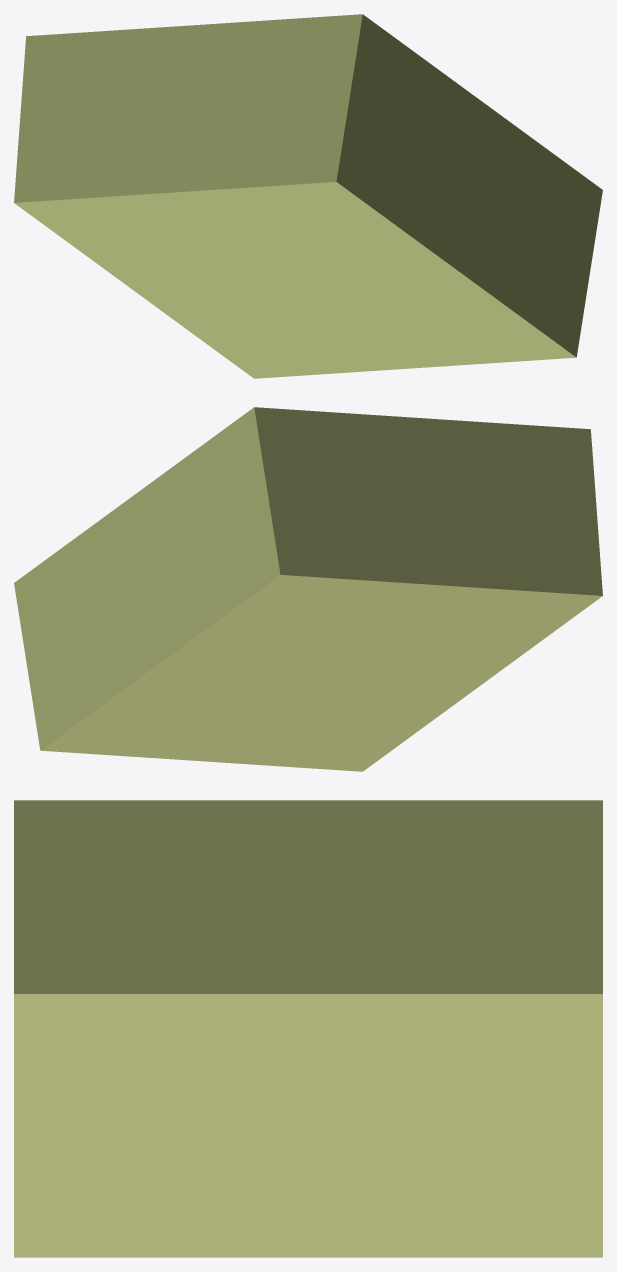
3 views of the same model, one above another, from view 1: azimuth 30°, elevation 25°; view 2: azimuth 150°, elevation 25°; view 3: azimuth 270°, elevation 25° (orthographic). The views are drawn at different scales.
Parts seen in each view (by area): view 1: 0_1_2_0_1_3_0_2_3_0_2_1; view 2: 0_1_2_0_1_3_0_2_3_0_2_1; view 3: 0_1_2_0_1_3_0_2_3_0_2_1.
Part boxes in pixels (x1,y1,x2,y2): 0_1_2_0_1_3_0_2_3_0_2_1: (14, 14, 602, 378); 0_1_2_0_1_3_0_2_3_0_2_1: (14, 407, 602, 771); 0_1_2_0_1_3_0_2_3_0_2_1: (14, 800, 602, 1257).
Bounding box in the file's own units: 5.03 × 3.05 × 6.
